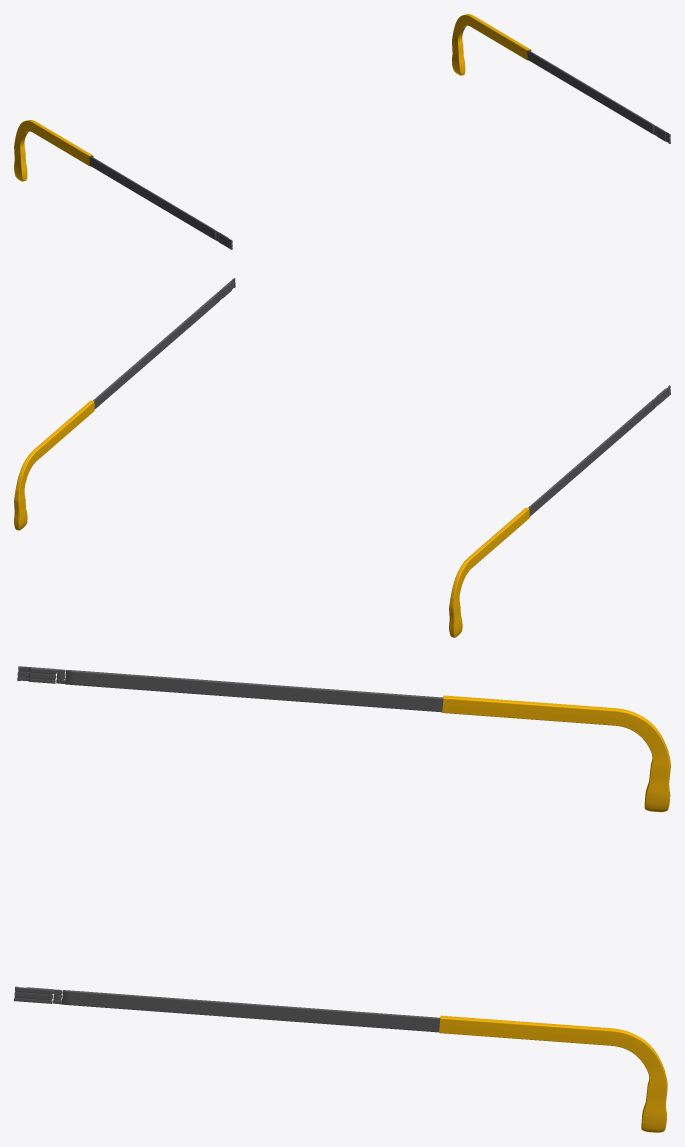
The model's file is custom-temple-tips-4.gltf.
3 renders of one model, top to bottom at view 1: azimuth 30°, elevation 25°; view 2: azimuth 150°, elevation 25°; view 3: azimuth 270°, elevation 25°, orthographic. The views are drawn at different scales.
Parts seen in each view (by area): view 1: Cube.001, Cube.002; view 2: Cube.002, Cube.001; view 3: Cube.001, Cube.002.
Boxes of the visible parts, x1,y1,x2,y2 form: Cube.001: (89,50,670,249); Cube.002: (14,14,531,181); Cube.002: (14,400,529,637); Cube.001: (93,278,670,516); Cube.001: (14,666,443,1032); Cube.002: (439,695,670,1132).
Bounding box in the file's own units: 0.9923 × 0.2049 × 0.849.
